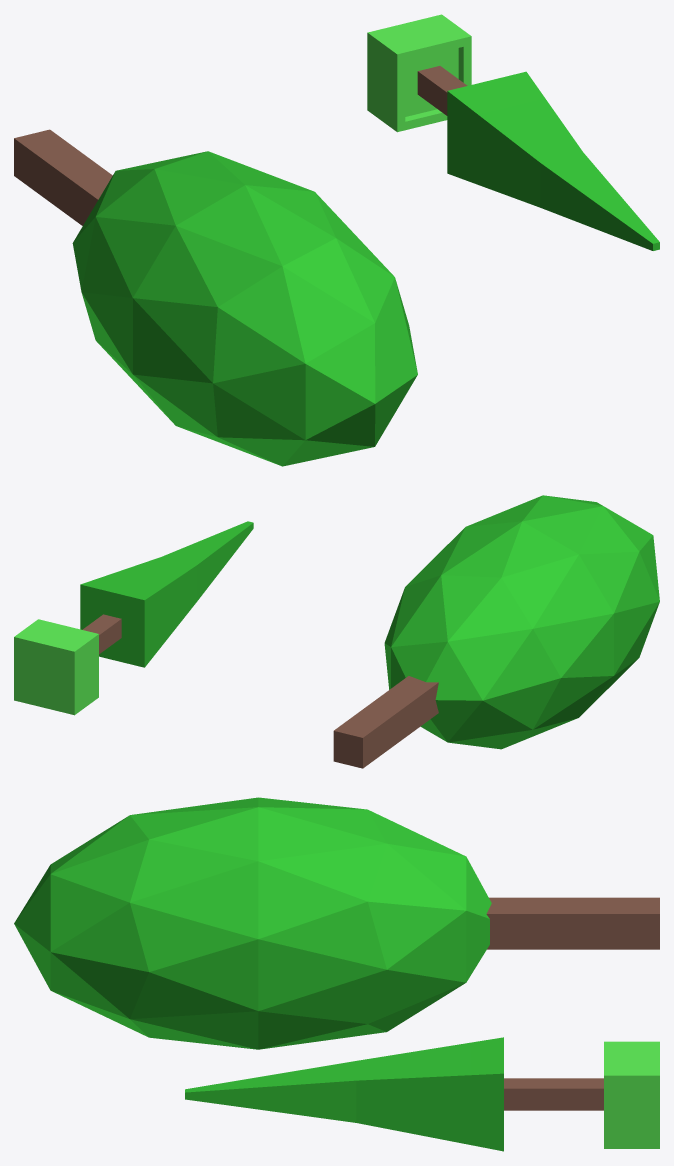
File: tree04.fbx
3 views of the same model, one above another, from view 1: azimuth 30°, elevation 25°; view 2: azimuth 150°, elevation 25°; view 3: azimuth 270°, elevation 25° (orthographic). The views are drawn at different scales.
Visible parts, largest first — view 1: 棱角球.089, 立方体.3224; view 2: 棱角球.089, 立方体.3224; view 3: 棱角球.089, 立方体.3224.
Boxes of the visible parts, x1,y1,x2,y2 form: 棱角球.089: (14,129,417,466); 立方体.3224: (367,14,659,250); 棱角球.089: (333,495,659,768); 立方体.3224: (14,521,253,715); 棱角球.089: (14,797,659,1049); 立方体.3224: (185,1037,659,1151).
Size of the model in its own units: 285 by 129 by 323.
